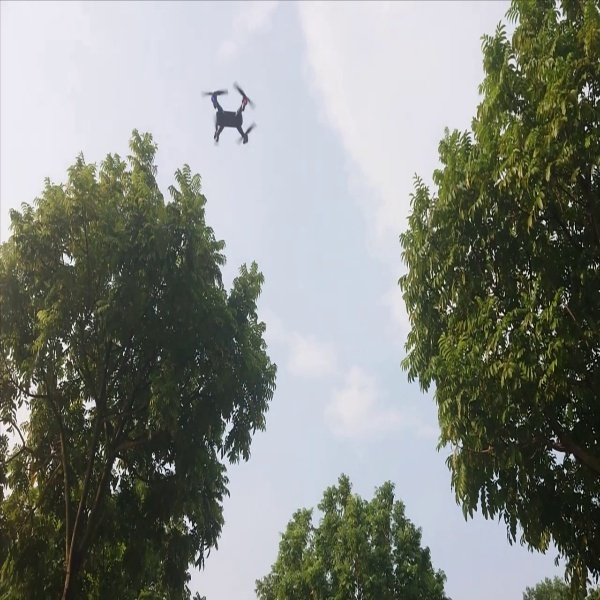drone: (196, 75, 264, 151)
